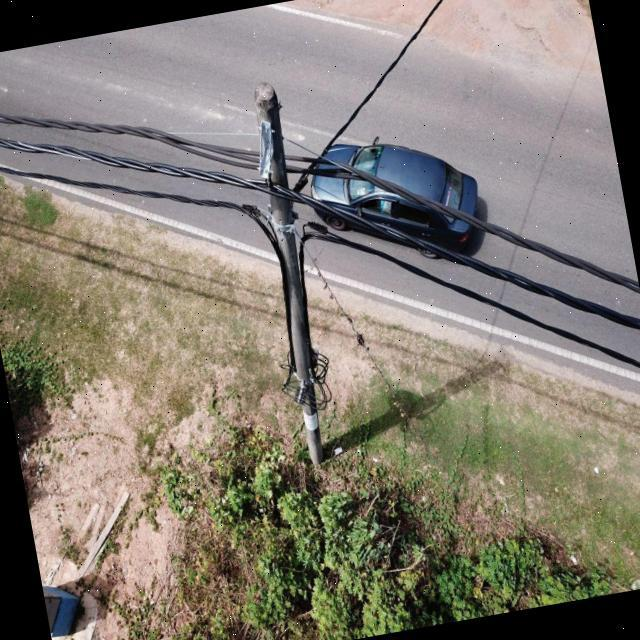critical vegetation: (300, 230, 419, 445)
